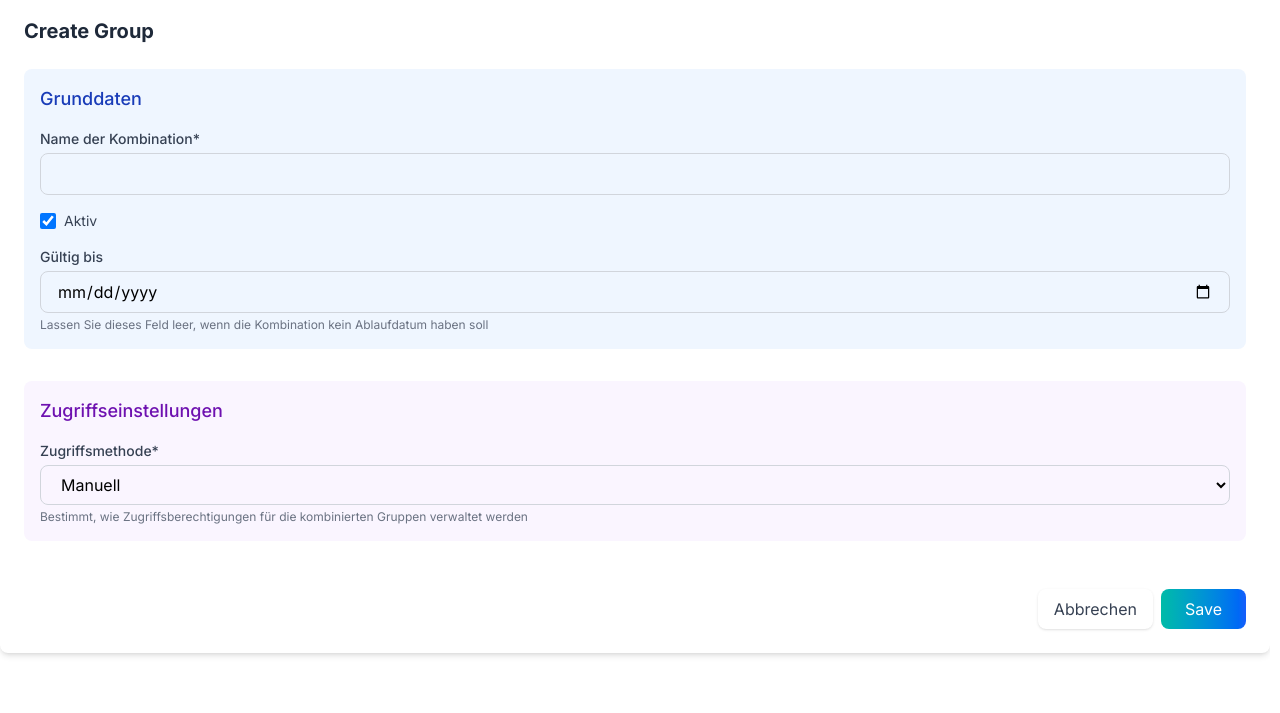
Test: CombinedGroupForm › validates specific group when policy is specific
Type "Test Group" into the field labelled "Name der Kombination*". click: {"x": 635, "y": 174}
box: [40,153,1230,195]
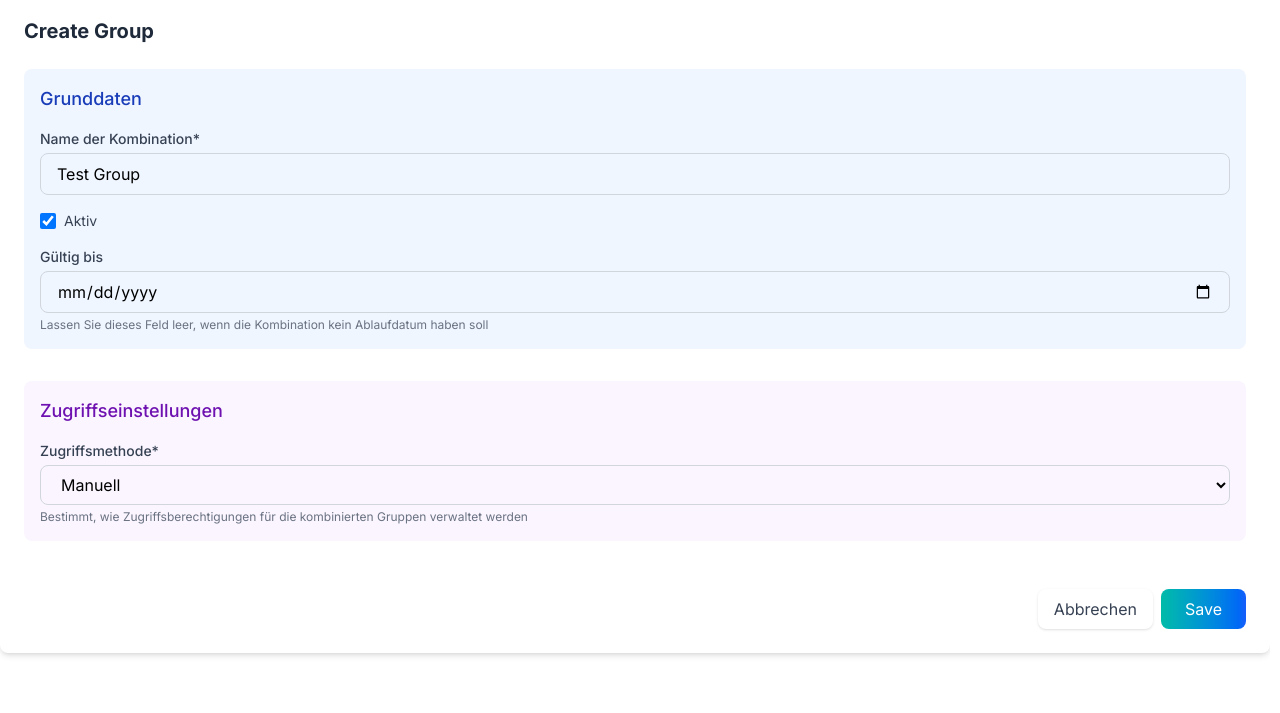
Select "Spezifische Gruppe" in the dropdown labelled "Zugriffsmethode*". click: {"x": 635, "y": 485}
box: [40,465,1230,505]
(page scrolled)
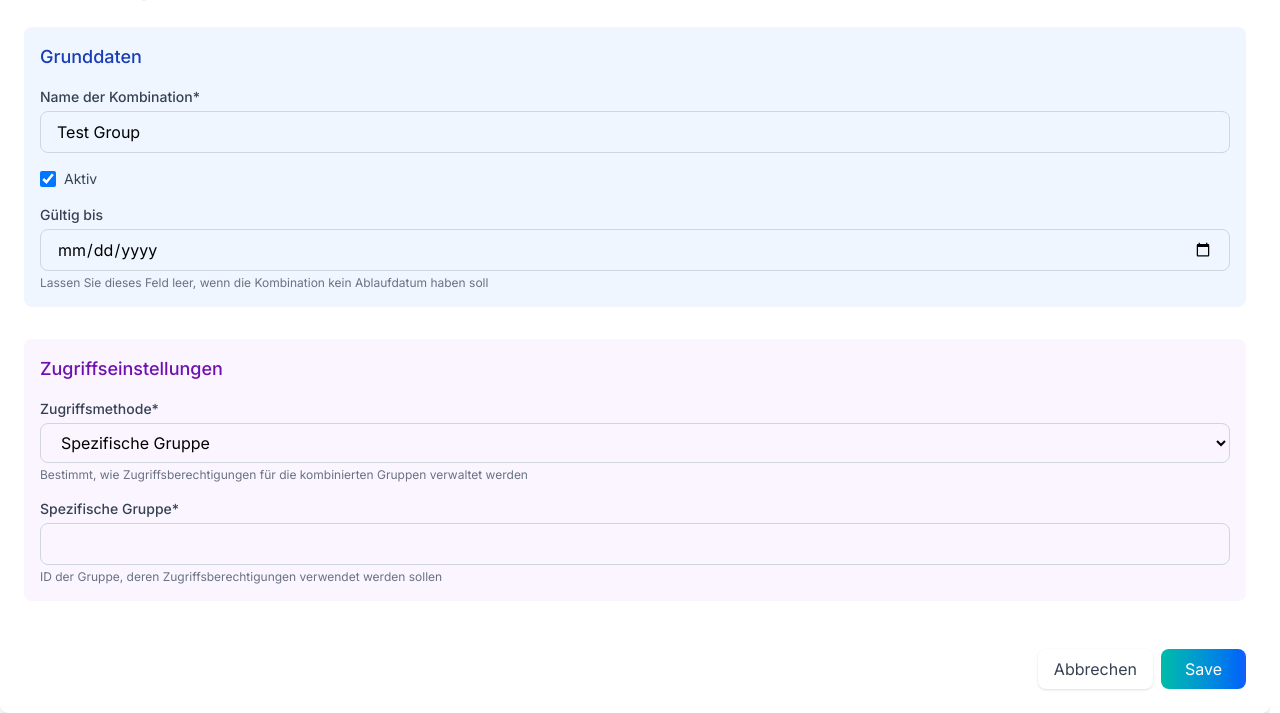
Click the button "Save". click: {"x": 1204, "y": 669}
box: [1161,649,1246,689]
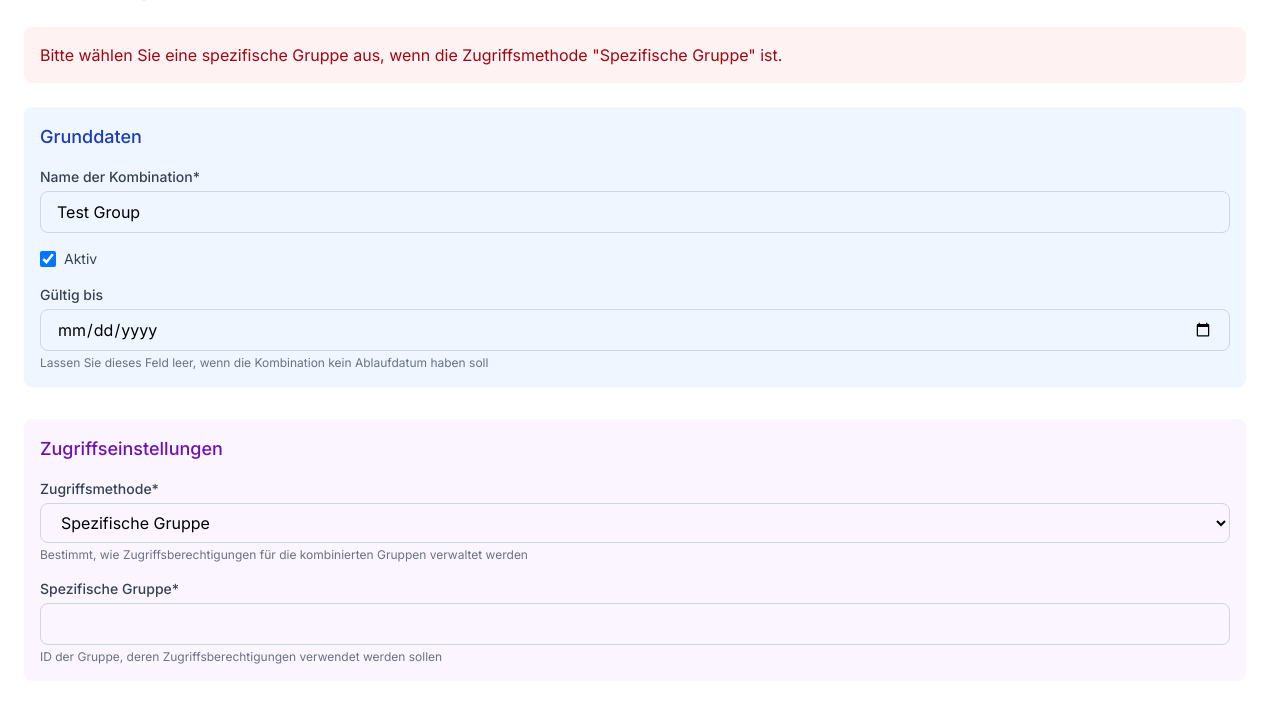
Now the text "Bitte wählen Sie eine spezifische Gruppe" is shown, box [40,45,782,65]
